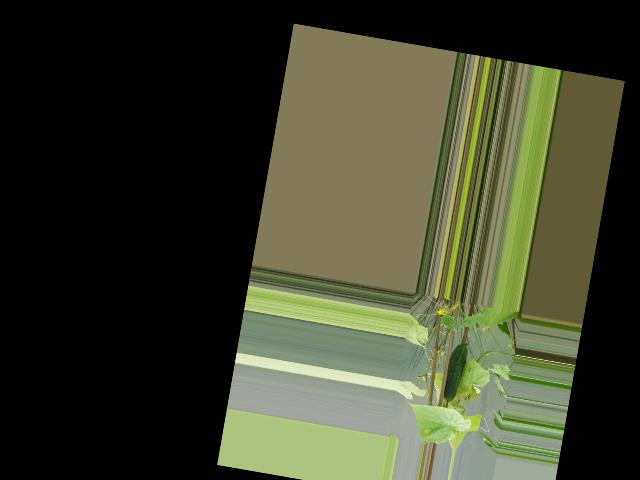cucumber: (442, 341, 469, 403)
